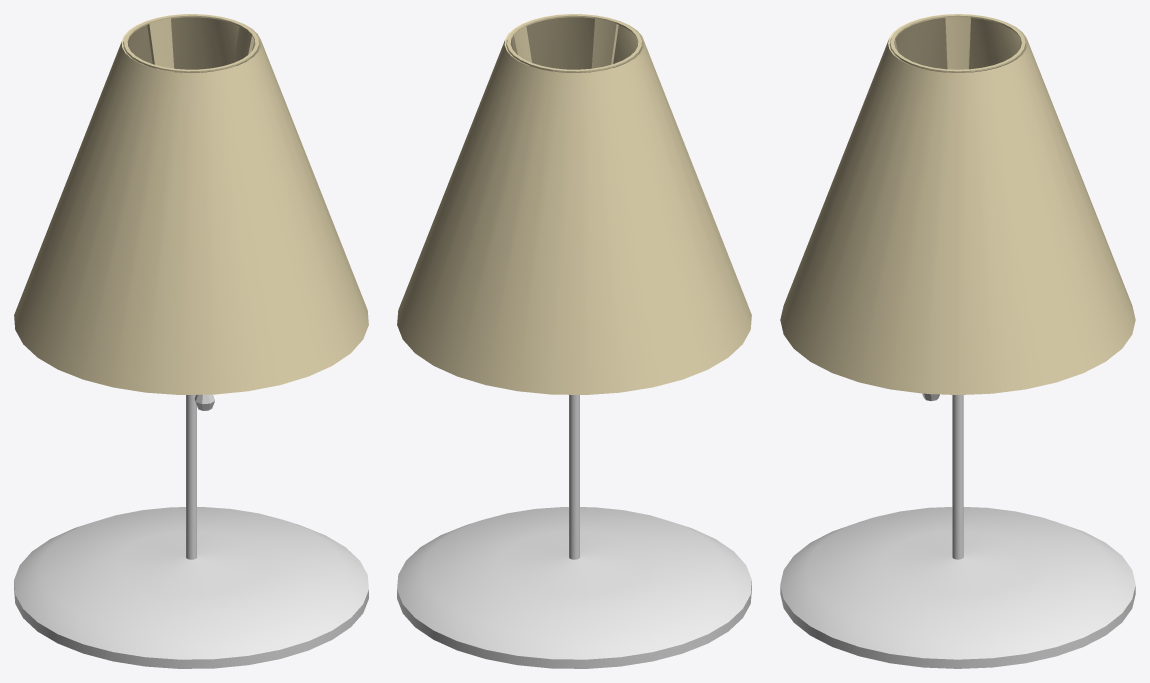
The model's file is lampada.fbx.
3 renders of one model, left to right at view 1: azimuth 30°, elevation 25°; view 2: azimuth 150°, elevation 25°; view 3: azimuth 270°, elevation 25°, orthographic.
Visible parts, largest first — view 1: Paralume, Corpo; view 2: Paralume, Corpo; view 3: Paralume, Corpo.
Part boxes in pixels (left/top/right/bottom): Paralume: left=14, top=14, right=368, bottom=394; Corpo: left=14, top=395, right=368, bottom=668; Paralume: left=397, top=14, right=751, bottom=394; Corpo: left=397, top=395, right=751, bottom=668; Paralume: left=780, top=14, right=1135, bottom=394; Corpo: left=780, top=395, right=1135, bottom=668.
Bounding box in the file's own units: 45 × 76.98 × 45.
